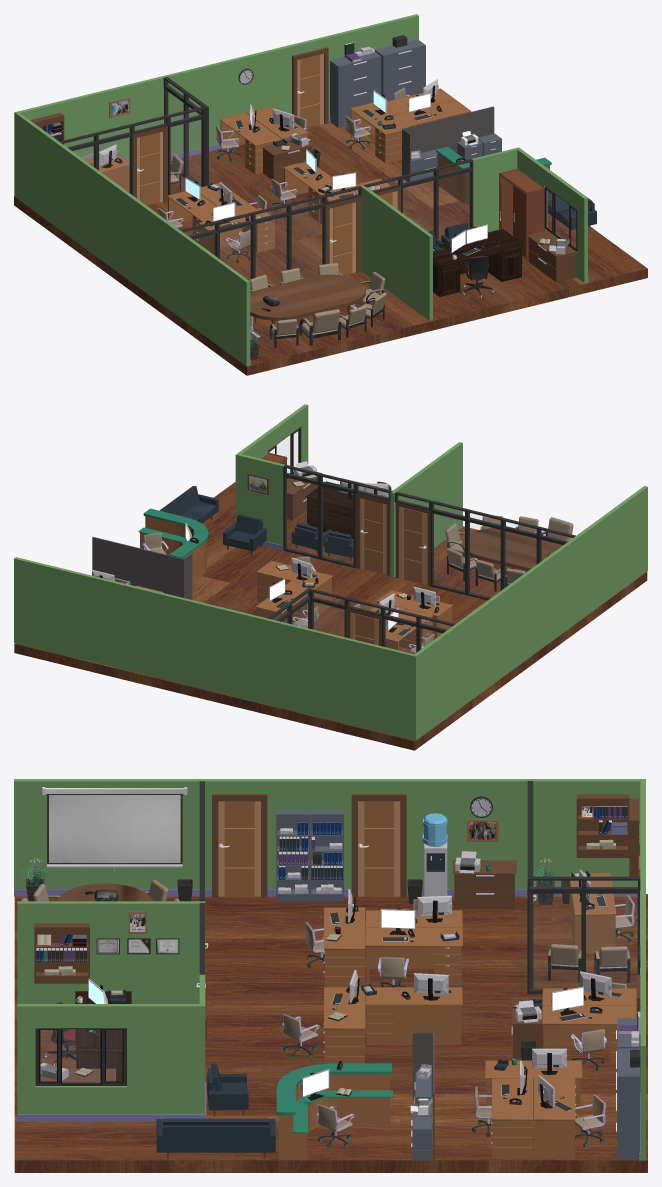
The model's file is office.dae.
The picture shows the model from 3 angles, top to bottom: view 1: azimuth 30°, elevation 25°; view 2: azimuth 150°, elevation 25°; view 3: azimuth 270°, elevation 25°; orthographic projection. The views are drawn at different scales.
Visible parts, largest first — view 1: Room_1, Floor_2, Room_002_460, Room_001_504, Meeting_table_490, simple_desk_000_586, wardrobe_507, Door_001_401, Door_002_472, Door_010_22, Window_510, Reception_4 (+31 smaller); view 2: Room_1, Floor_2, Room_001_504, Room_002_460, Reception_4, Meeting_table_490, Door_002_472, Door_600, Plane_006_5, simple_desk_000_586, Small_wall_7, couch1_207 (+16 smaller); view 3: Floor_2, Room_1, Room_001_504, Room_002_460, Projector_Screen_497, Reception_4, Window_510, couch1_207, Door_011_27, Door_009_17, Desk_010_247, Desk_016_320 (+56 smaller).
Boxes of the visible parts, x1,y1,x2,y2 form: Room_1: (14,14,418,366); Floor_2: (14,122,647,375); Room_002_460: (360,185,432,320); Room_001_504: (472,147,587,282); Meeting_table_490: (250,274,365,320); simple_desk_000_586: (433,229,523,296); wardrobe_507: (498,168,544,258); Door_001_401: (137,131,163,205); Door_002_472: (329,202,356,275); Door_010_22: (297,53,323,127); Window_510: (544,186,577,252); Reception_4: (436,146,551,204); Room_1: (14,486,647,740); Floor_2: (14,482,647,750); Room_001_504: (235,404,308,545); Room_002_460: (390,442,462,577); Reception_4: (138,508,208,583); Meeting_table_490: (462,528,562,570); Door_002_472: (399,507,427,585); Door_600: (360,498,386,574); Plane_006_5: (137,548,182,597); simple_desk_000_586: (305,481,389,538); Small_wall_7: (92,537,137,586); couch1_207: (159,486,218,523); Floor_2: (14,894,647,1172); Room_1: (14,779,645,1160); Room_001_504: (17,974,205,1113); Room_002_460: (17,901,205,1003); Projector_Screen_497: (42,787,187,872); Reception_4: (276,1063,393,1159); Window_510: (35,1028,126,1085); couch1_207: (156,1118,275,1158); Door_011_27: (218,801,260,896); Door_009_17: (358,801,400,896); Desk_010_247: (365,987,462,1044); Desk_016_320: (534,1078,575,1158).
Size of the model in its own units: 1.01 by 1.01 by 0.225.
Materials: 45 (18 with a texture image).
